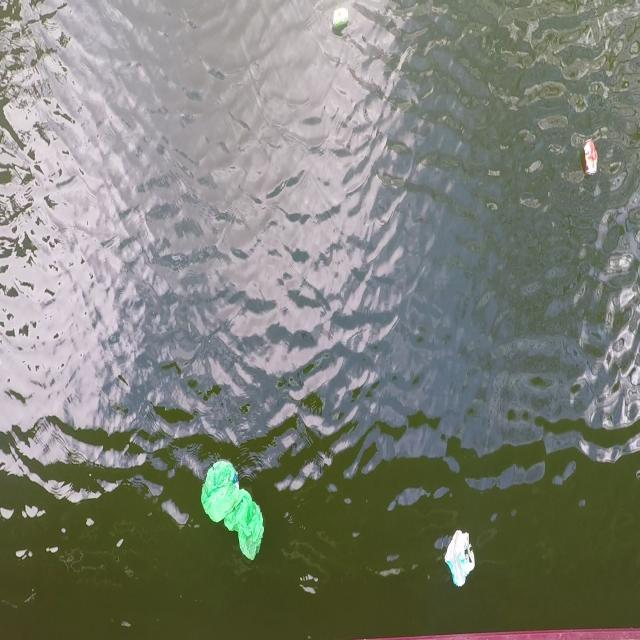Non plastique: (583, 139, 599, 178)
Sac plastique: (443, 530, 478, 589)
